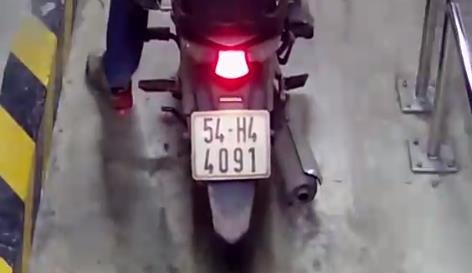lisence: (191, 112, 270, 179)
